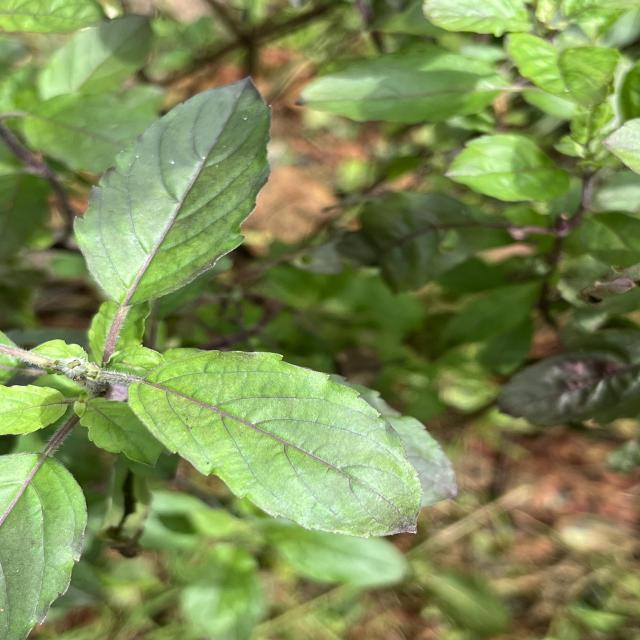Ocimum tenuiflorum: (126, 344, 425, 540), (72, 74, 275, 310)
